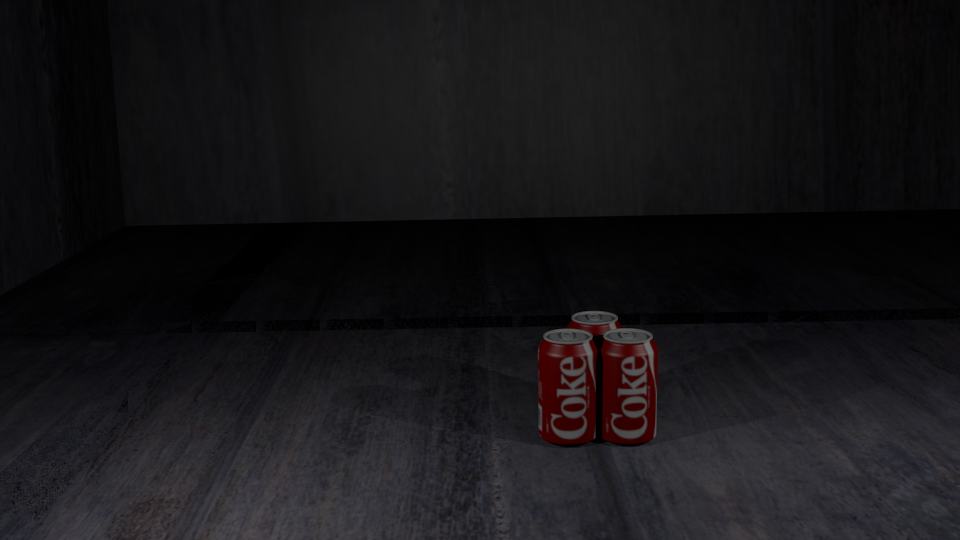cola_can: (538, 329, 597, 441), (598, 329, 657, 440), (567, 311, 622, 417)
